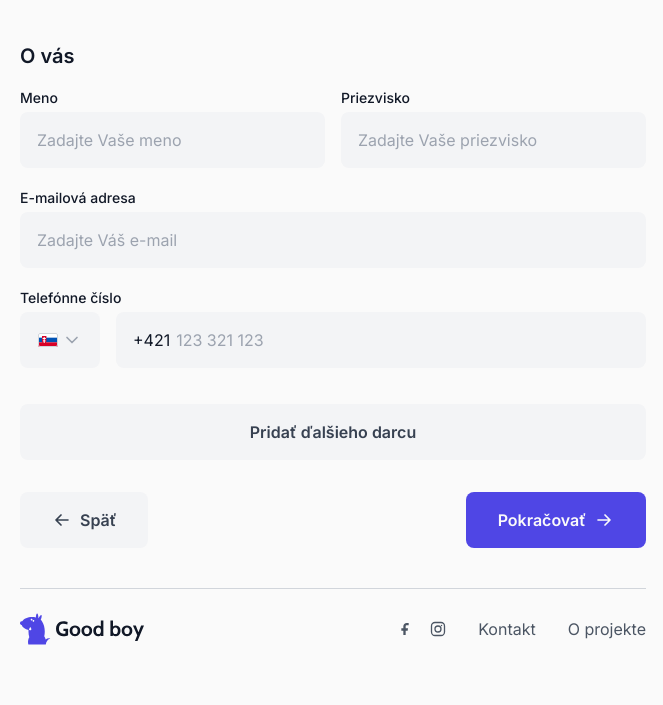
Test: Step2 › revalidates the phone number after switching the prefix, once the field is already validated
(page scrolled)
Expected: the field labelled "Meno" is shown, [20,112,325,168]
Click the button "Pokračovať": (556,520) [466,492,646,548]
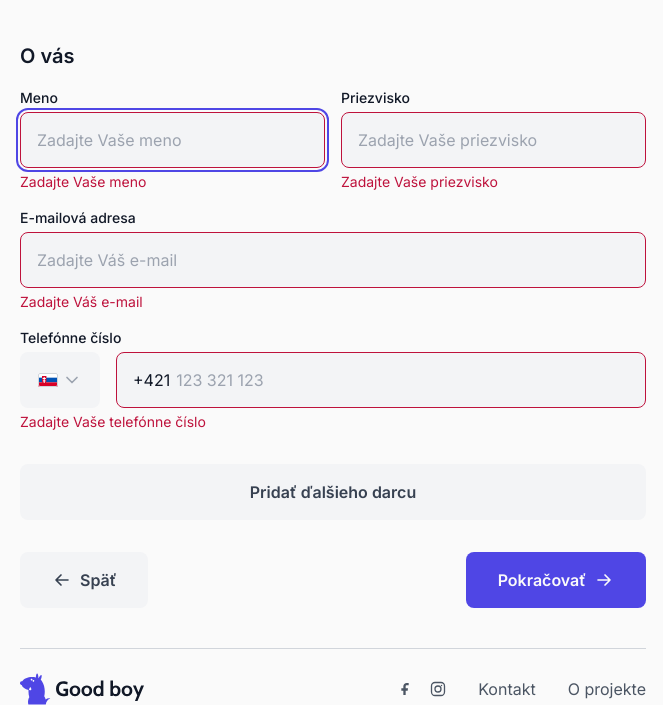
Expected: the field named "Telefónne číslo bez predvoľby" is marked as invalid
In the field named "Telefónne číslo bez predvoľby": (402,380) [174,353,629,407], type "902237207"
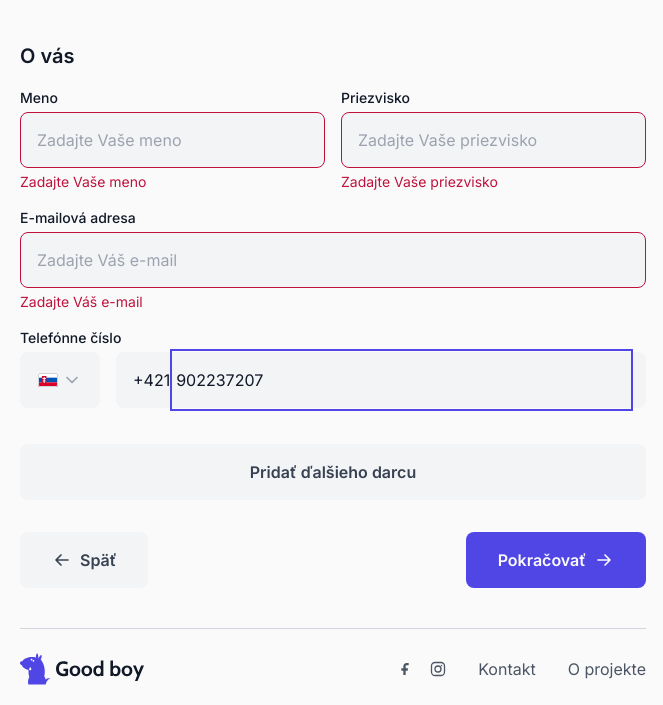
Expected: the field named "Telefónne číslo bez predvoľby" does not have attribute aria-invalid, [174,353,629,407]
Click the dropdown: (60,380) [20,352,100,408]
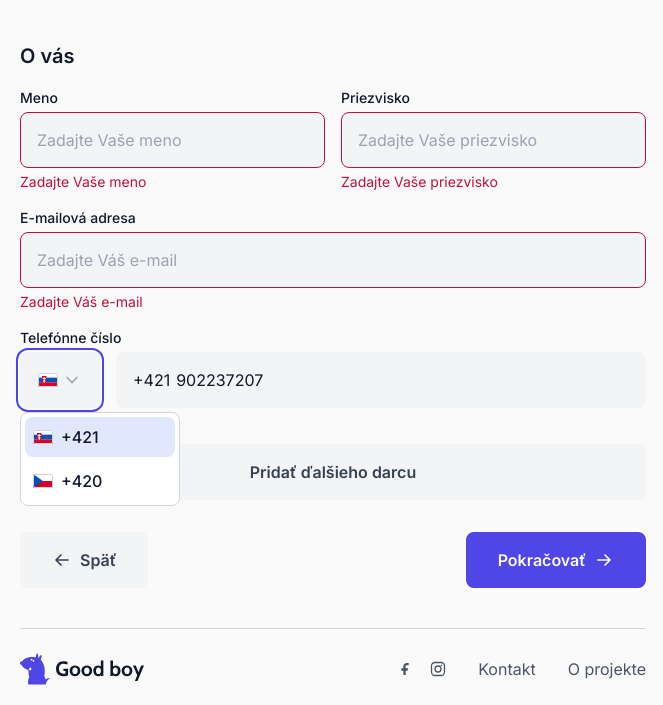
Click the option "+420": (67,487) [32,471,102,502]
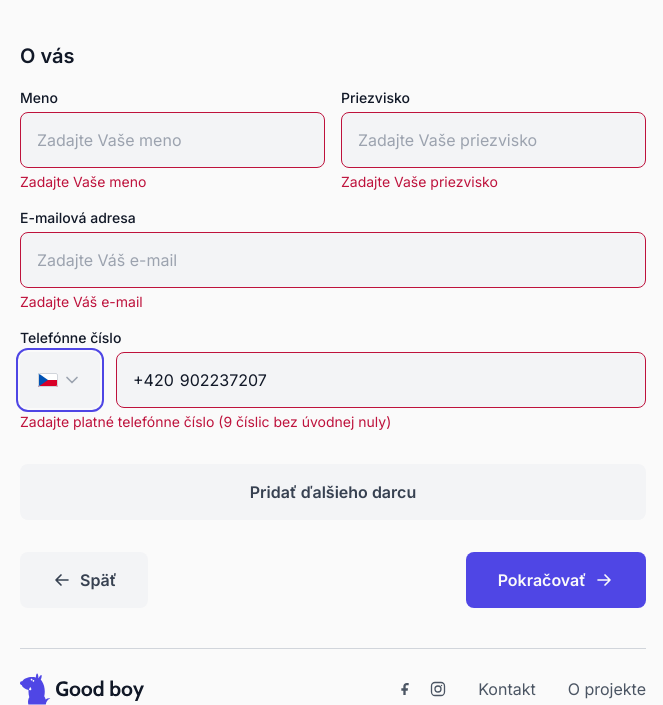
Expected: the field named "Telefónne číslo bez predvoľby" is marked as invalid, [178,353,629,407]
Note: And switching back to +421 (9 digits again) clears it — same path.
Click the dropdown: (60,380) [20,352,100,408]
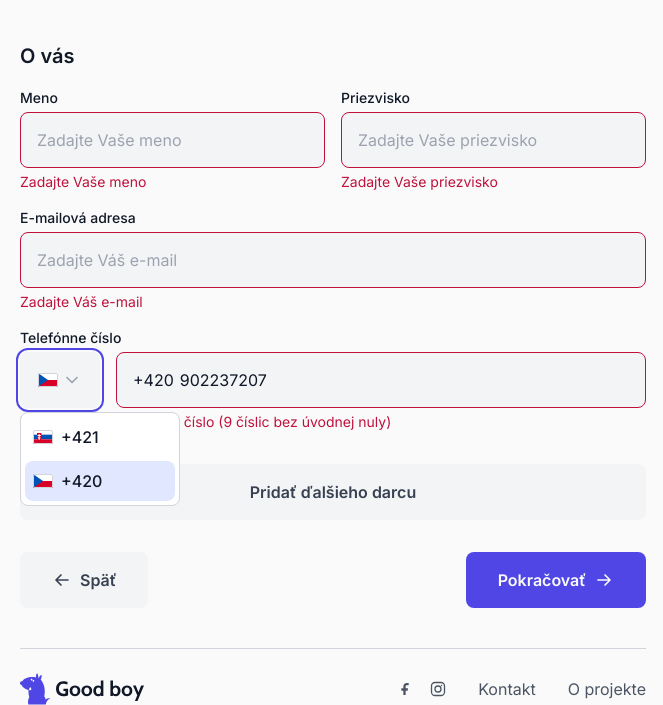
Click the option "+421": (71,443) [32,427,109,458]
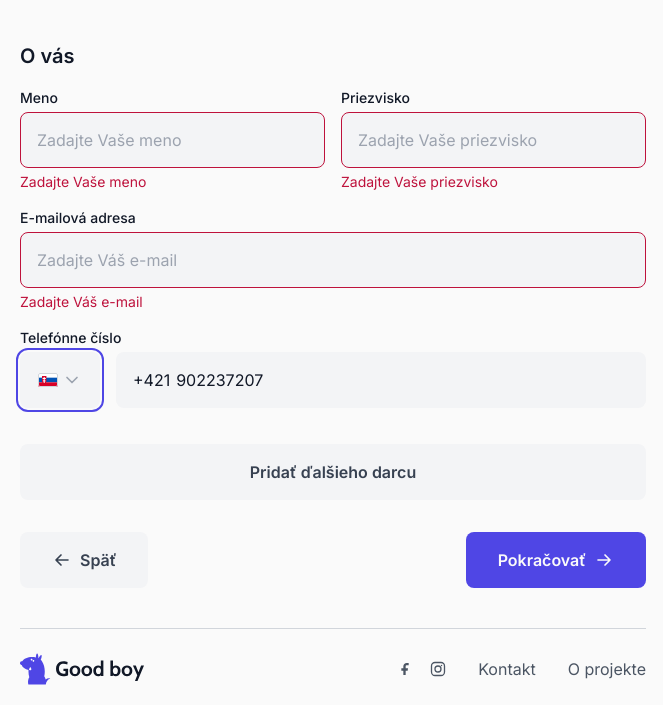
Expected: the text "Zadajte platné telefónne číslo (9 číslic bez úvodnej nuly)" is gone
